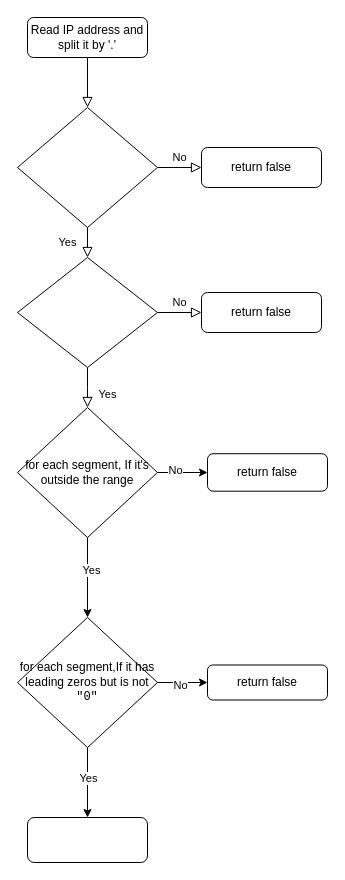
The diagram is 345 pixels wide and 880 high, and some of its shapes have lost their labels. Here are the shapes that lost their labels. From the top down, the centre of each, then its label:
At (x=87, y=167): "Check if there are exactly 4 segments".
At (x=87, y=312): "for each segment, If it's not numeric".
At (x=87, y=839): "return true".
